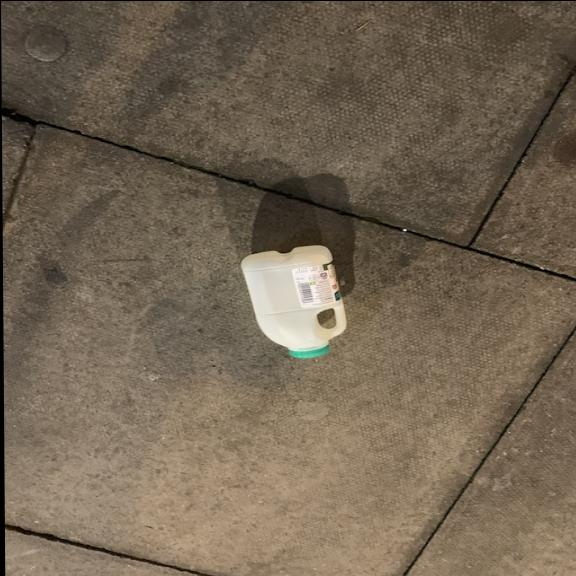Plastik: (237, 246, 353, 354)
